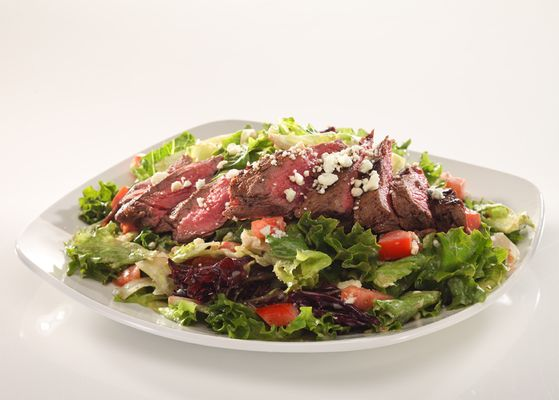curry: (12, 6, 555, 396)
